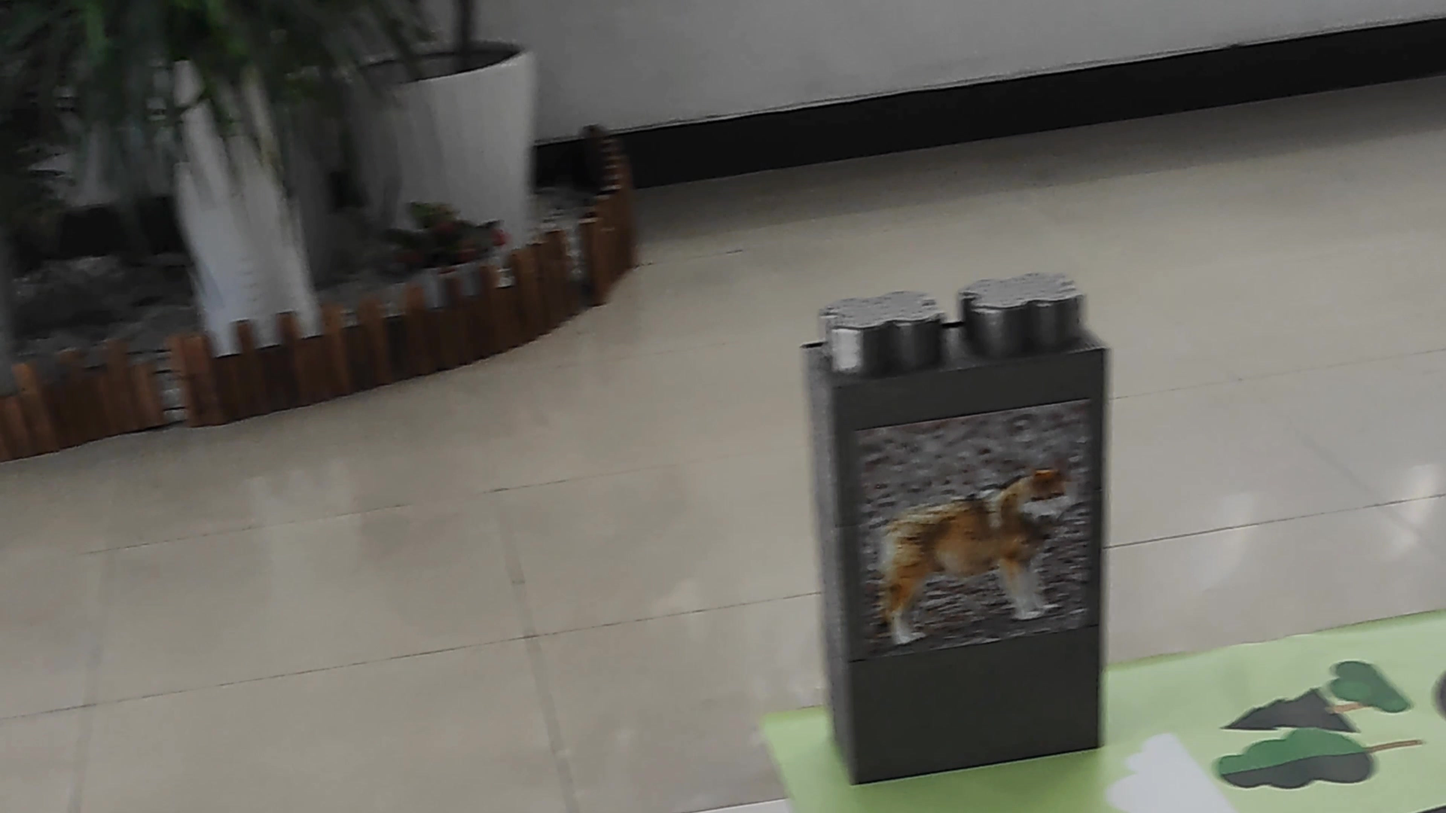wolf: (857, 452, 1082, 650)
